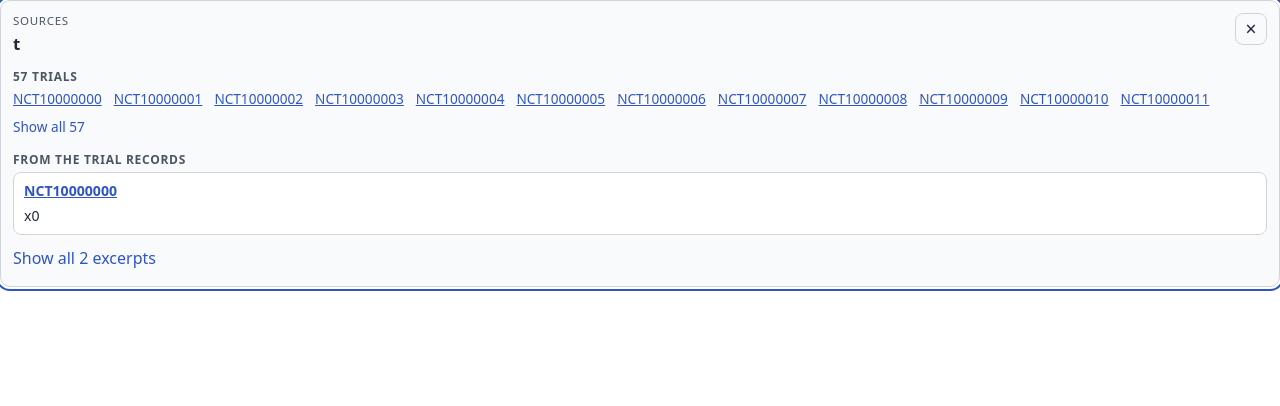
Test: citation panel: endpoint edge cases and interpolated values › a fetch without nct_ids hides "Show all" and says the full list is unavailable
Click the button "Show all 57" at (49, 127), box [13,113,85,141]
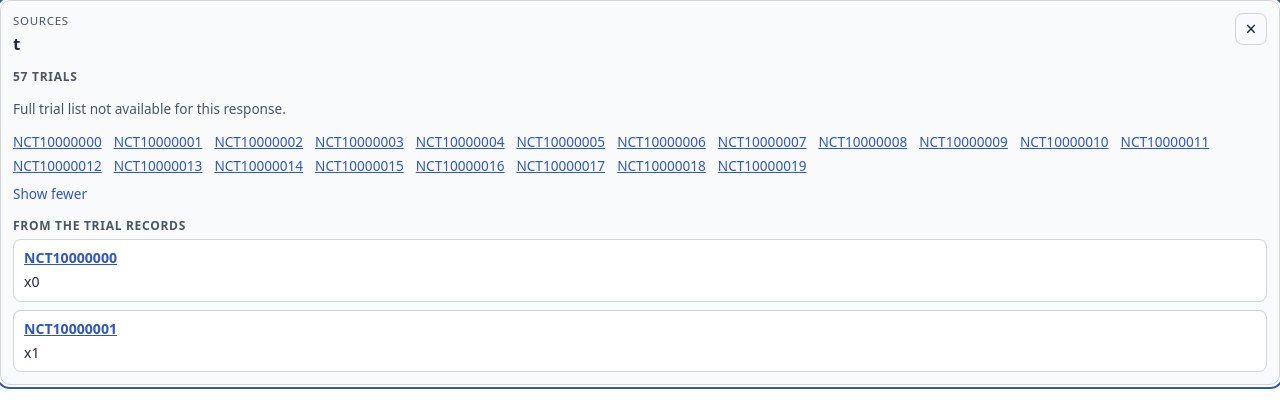
Expected: the text "57 trials" is shown, [13,68,78,85]
Result: the text "Full trial list not available for this response." is shown at [13,99,286,118]
Result: the button "Show all" is gone
